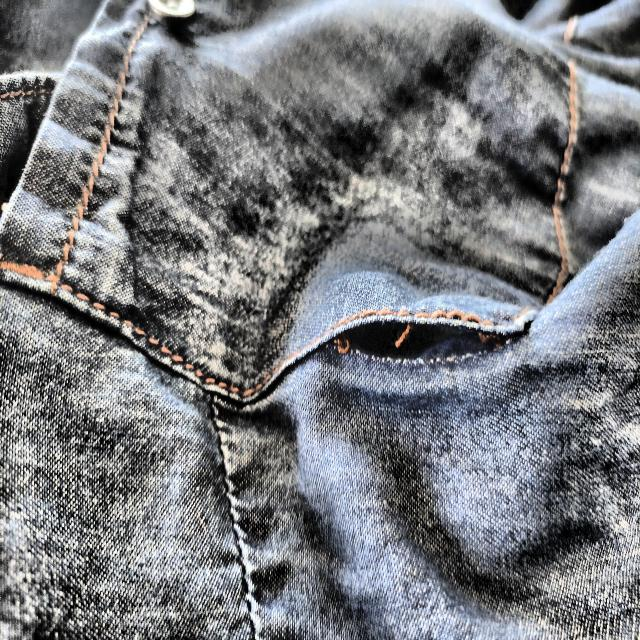seam: (297, 303, 537, 380)
